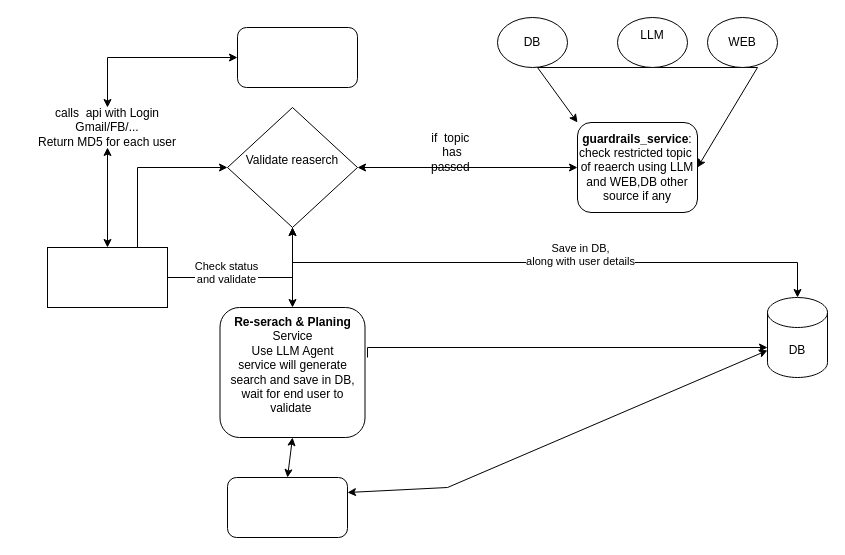
The diagram is 845 pixels wide and 555 high, and some of its shapes have lost their labels. The box of each missing label's shape, as (x1, y1, x2, y2) in pixels:
Authenticate: (236, 26, 358, 88)
end user valiation: (226, 476, 348, 538)
UI: (46, 246, 168, 308)
